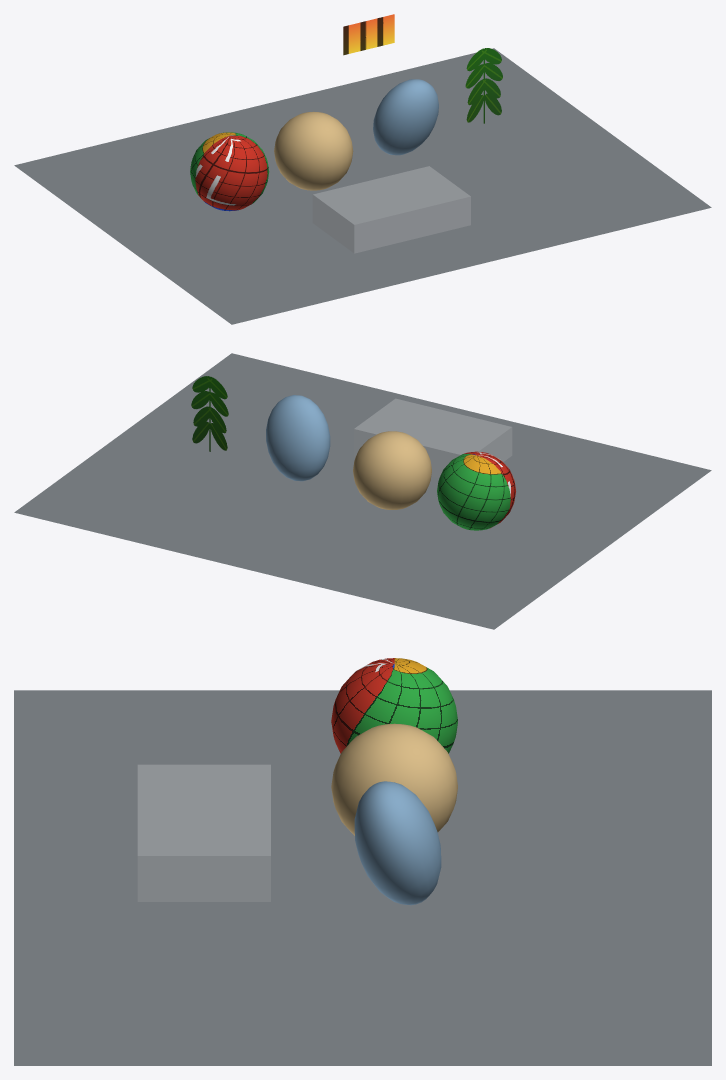
The model's file is export_contract.glb.
3 renders of one model, top to bottom at view 1: azimuth 30°, elevation 25°; view 2: azimuth 150°, elevation 25°; view 3: azimuth 270°, elevation 25°, orthographic. The views are drawn at different scales.
Parts seen in each view (by area): view 1: Ground, Water_Closed_Box, Diffuse_Probe, Metal_Probe, Mirrored_Nonuniform, Foliage_Card, Emissive_Panel; view 2: Ground, Water_Closed_Box, Diffuse_Probe, Metal_Probe, Mirrored_Nonuniform, Foliage_Card; view 3: Ground, Water_Closed_Box, Metal_Probe, Mirrored_Nonuniform, Diffuse_Probe.
Part boxes in pixels (left/top/right/bottom): Ground: left=14, top=48, right=711, bottom=324; Water_Closed_Box: left=313, top=166, right=470, bottom=252; Diffuse_Probe: left=190, top=132, right=269, bottom=211; Metal_Probe: left=274, top=111, right=353, bottom=190; Mirrored_Nonuniform: left=373, top=79, right=438, bottom=155; Foliage_Card: left=465, top=48, right=502, bottom=123; Emissive_Panel: left=343, top=14, right=394, bottom=55; Ground: left=14, top=353, right=711, bottom=629; Water_Closed_Box: left=354, top=399, right=511, bottom=477; Diffuse_Probe: left=437, top=451, right=515, bottom=530; Metal_Probe: left=353, top=431, right=431, bottom=509; Mirrored_Nonuniform: left=266, top=395, right=330, bottom=481; Foliage_Card: left=191, top=376, right=228, bottom=451; Ground: left=14, top=690, right=711, bottom=1065; Water_Closed_Box: left=138, top=765, right=270, bottom=901; Metal_Probe: left=331, top=723, right=457, bottom=835; Mirrored_Nonuniform: left=354, top=781, right=441, bottom=905; Diffuse_Probe: left=331, top=658, right=457, bottom=753.
Bounding box in the file's own units: 14 × 3.35 × 11.
Materials: 7 (3 with a texture image).
